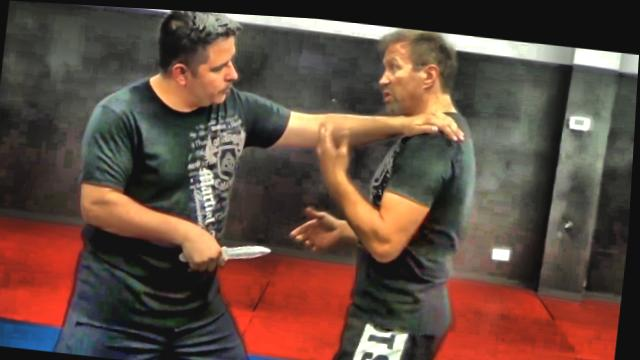knife: (178, 229, 277, 273)
